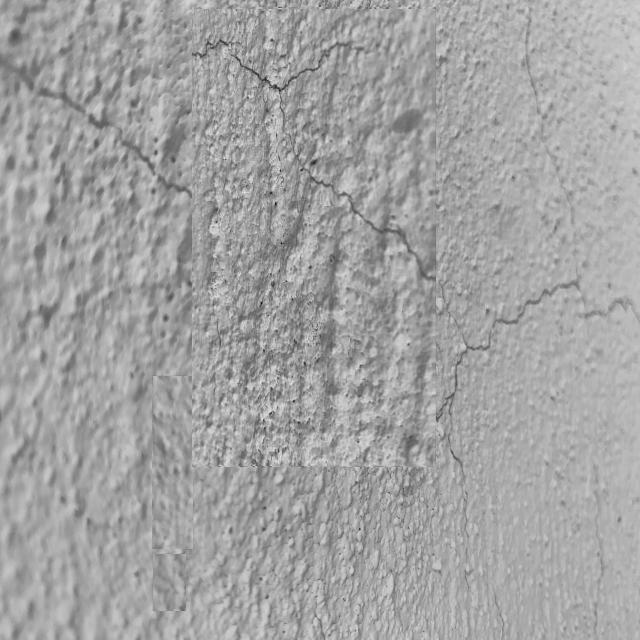diagonal crack: (0, 31, 192, 252)
multi-branched crack: (439, 0, 640, 640), (193, 0, 435, 344)
vertical crack: (553, 421, 640, 640)
